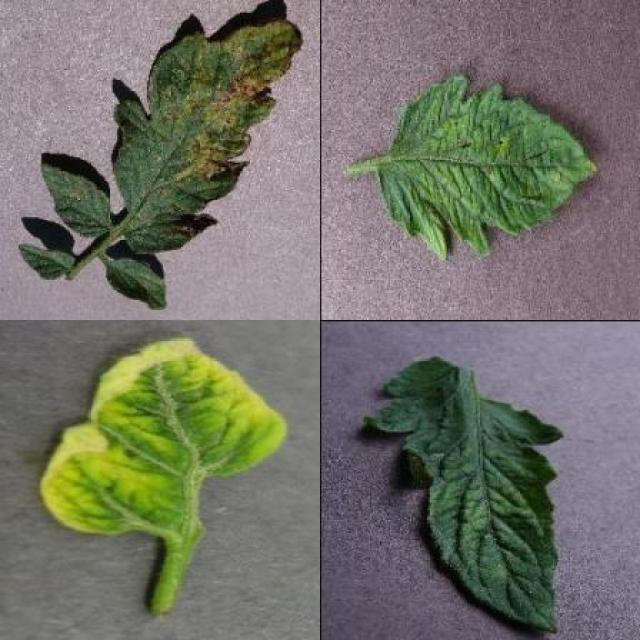Mosaic Virus: (364, 355, 562, 635), (376, 74, 598, 262)
Septoria: (112, 16, 302, 254)
Yellow Leaf Curl Virus: (38, 340, 286, 537)
